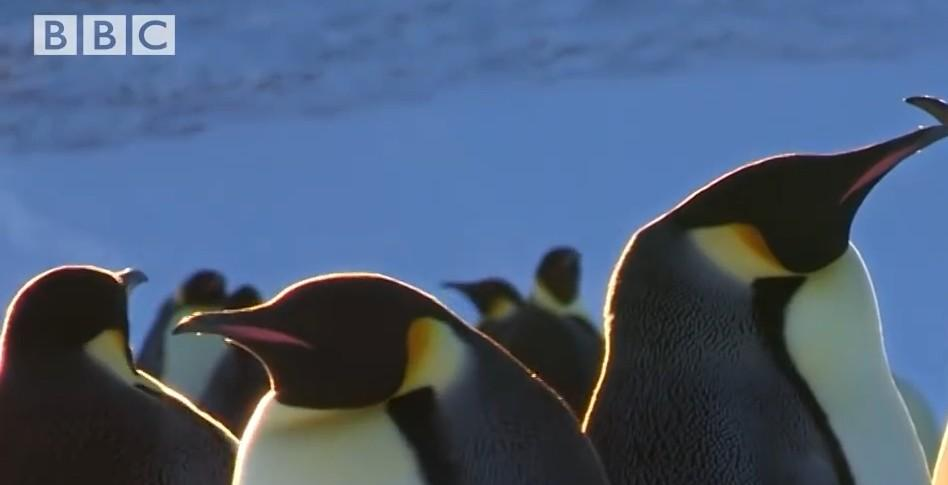Emperor Penguin: (595, 120, 948, 485), (168, 267, 692, 485), (6, 248, 276, 485), (432, 258, 602, 388), (908, 87, 948, 485)
